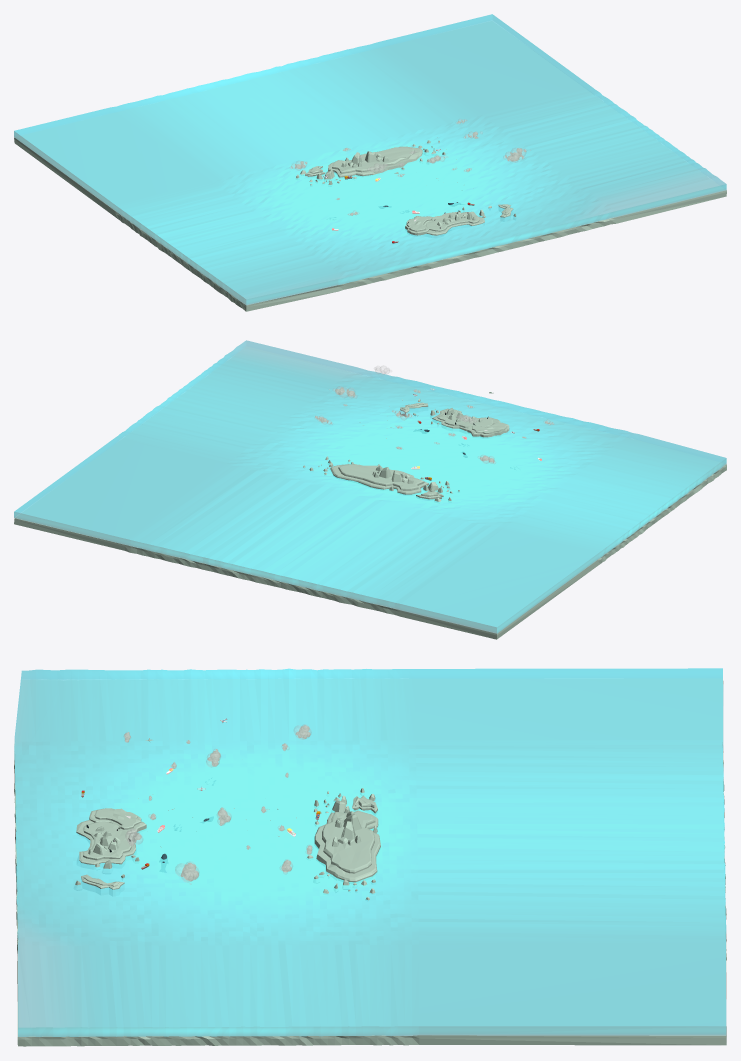
File: basemap.glb
3 views of the same model, one above another, from view 1: azimuth 30°, elevation 25°; view 2: azimuth 150°, elevation 25°; view 3: azimuth 270°, elevation 25° (orthographic). The views are drawn at different scales.
Visible parts, largest first — view 1: basemap; view 2: basemap; view 3: basemap, Planet_1_World ap_0.001.
Part boxes in pixels (x1,y1,x2,y2): basemap: (14,14,726,311); basemap: (14,340,726,639); basemap: (14,668,726,1046); Planet_1_World ap_0.001: (94,808,141,829).
Size of the model in its own units: 53.44 by 6.64 by 45.02.
Materials: 28 (27 with a texture image).
